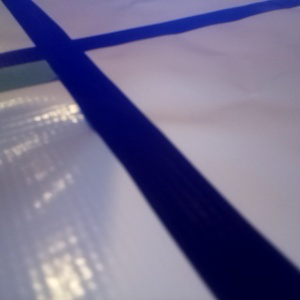bottom_left: (1, 52, 83, 90)
